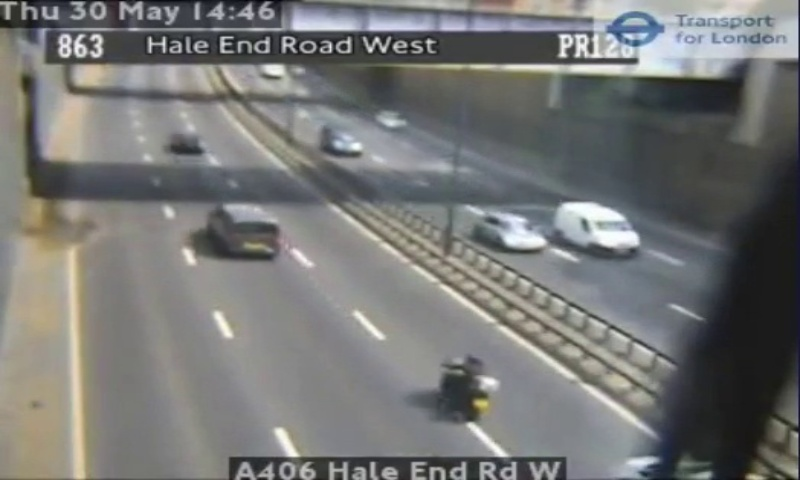motorcycle: (441, 354, 497, 420)
van: (209, 203, 279, 256)
